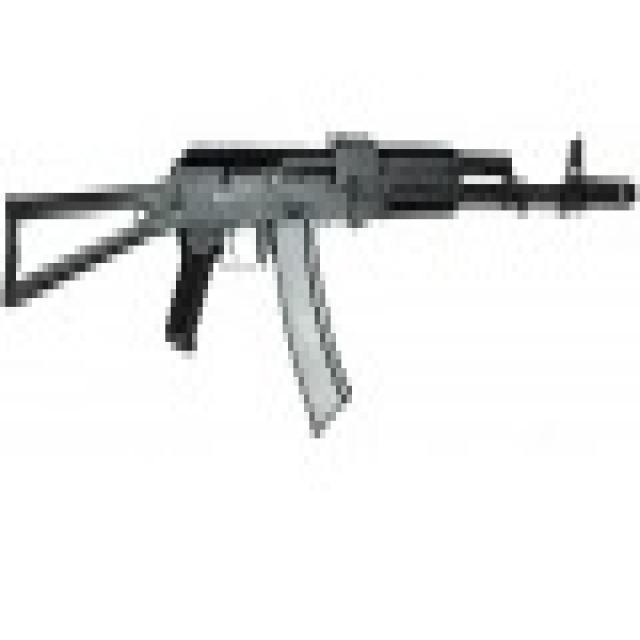Gun: (42, 68, 628, 446)
